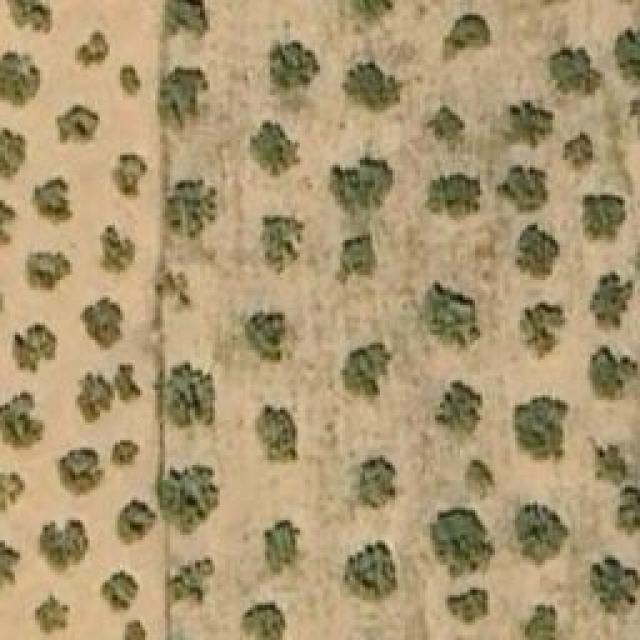Tree: (158, 463, 221, 536), (430, 508, 495, 578), (422, 283, 480, 356), (78, 363, 143, 426), (512, 395, 570, 465), (157, 363, 215, 426), (333, 155, 393, 215), (343, 535, 398, 600), (165, 178, 220, 241), (515, 503, 570, 566), (158, 65, 208, 133), (345, 62, 410, 110), (250, 120, 303, 178), (423, 170, 483, 220), (590, 553, 640, 613), (340, 343, 393, 396), (515, 222, 563, 280), (517, 302, 565, 360), (38, 520, 88, 575), (53, 448, 106, 498), (357, 455, 405, 510), (0, 392, 45, 450), (260, 215, 303, 275), (550, 47, 603, 95), (435, 380, 483, 433), (592, 348, 640, 401), (270, 40, 320, 90), (0, 50, 40, 110), (580, 193, 625, 246), (80, 298, 125, 351), (170, 558, 215, 611), (590, 273, 633, 328), (442, 15, 490, 63), (498, 165, 548, 210), (13, 323, 58, 373), (255, 405, 295, 460), (505, 103, 553, 148), (30, 178, 73, 228), (245, 313, 288, 363), (262, 520, 300, 575), (28, 250, 73, 295), (335, 235, 375, 283), (100, 570, 143, 613), (242, 597, 285, 640), (110, 152, 148, 200), (55, 105, 100, 145), (100, 225, 135, 275), (35, 595, 73, 640), (165, 0, 208, 38), (8, 0, 53, 35), (592, 445, 630, 485), (120, 500, 155, 540), (448, 588, 488, 623), (615, 30, 640, 85), (427, 108, 465, 143), (75, 28, 108, 68), (0, 535, 22, 595), (353, 0, 403, 25), (0, 130, 25, 178), (465, 460, 495, 500), (525, 605, 558, 640), (0, 473, 25, 516), (563, 133, 593, 168), (110, 440, 140, 468), (120, 63, 143, 98), (0, 198, 15, 251), (123, 620, 146, 640)
